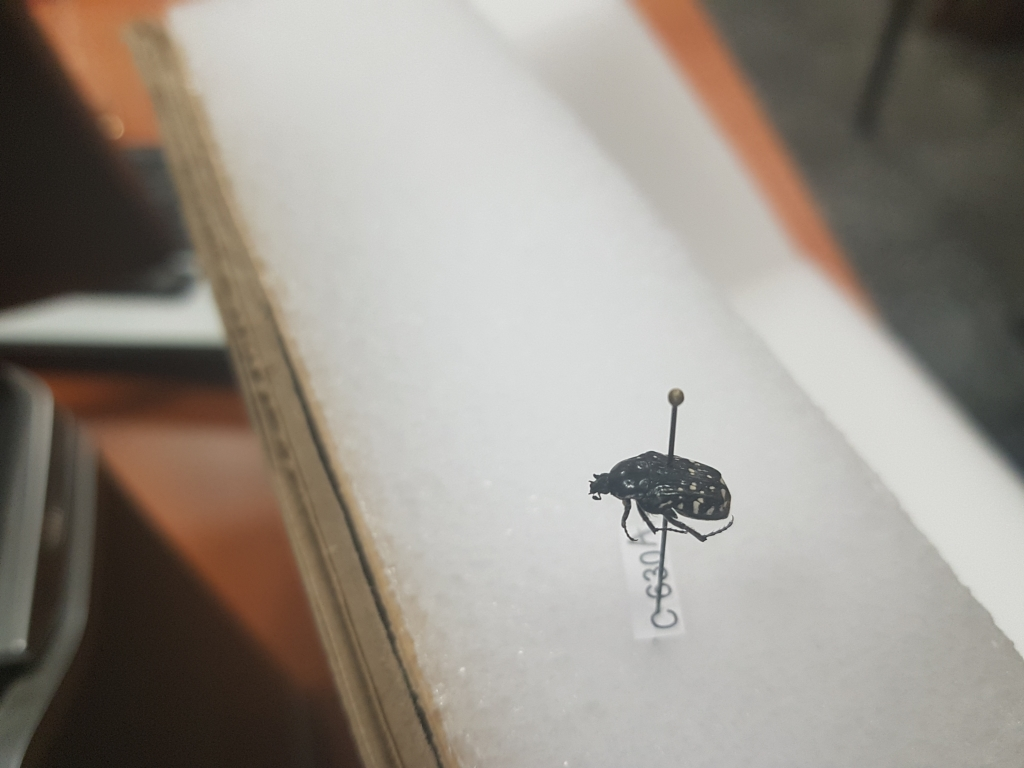Oxythyrea_albopicta: (581, 439, 743, 551)
